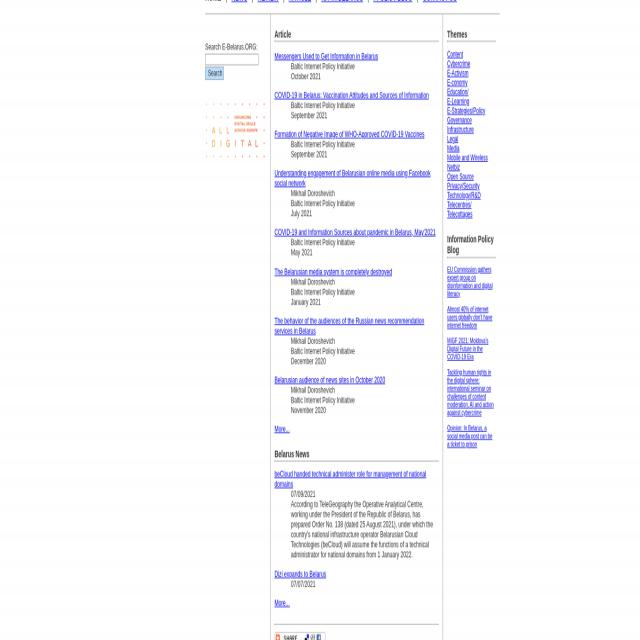button: (204, 97, 266, 160), (205, 65, 223, 79)
field: (204, 52, 258, 64)
